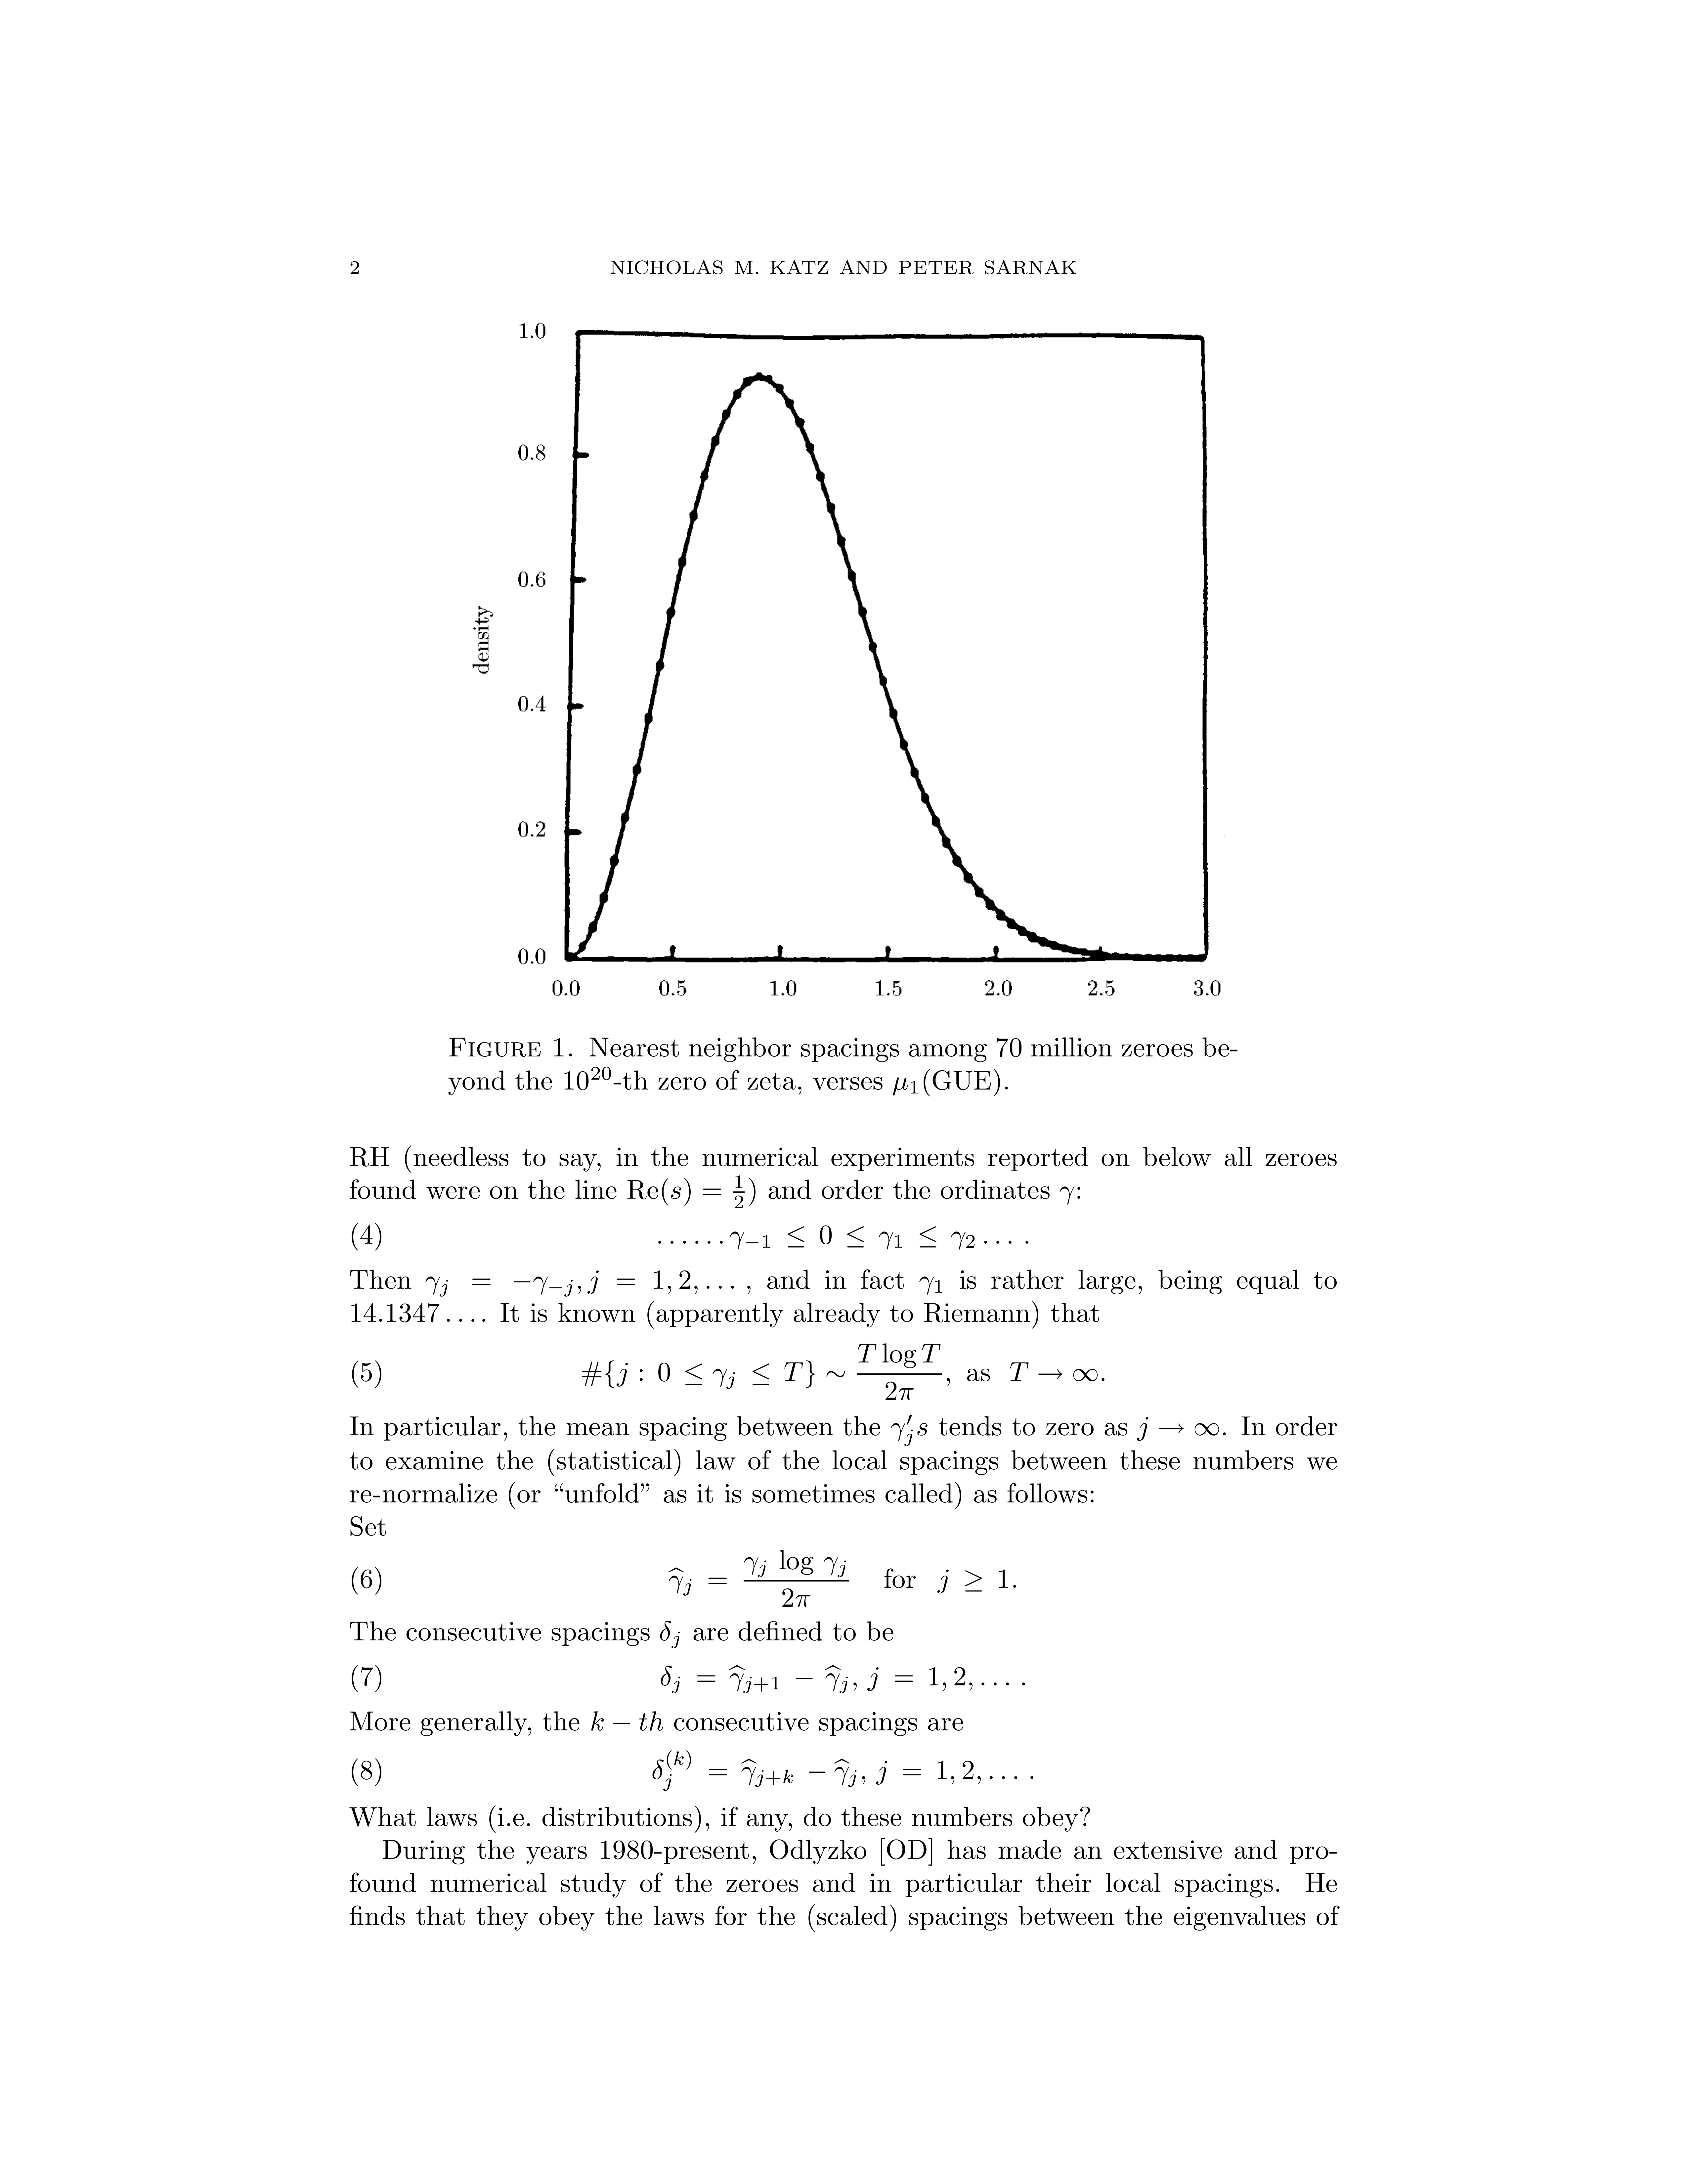maths: (581, 1344, 941, 1400), (668, 1549, 849, 1606), (652, 1751, 865, 1790), (730, 1225, 1012, 1250), (661, 1665, 856, 1693), (627, 1175, 755, 1207), (867, 1666, 973, 1691), (875, 1760, 980, 1785), (588, 1271, 696, 1294), (1138, 1416, 1219, 1441), (937, 1569, 1008, 1594), (1010, 1363, 1097, 1381), (592, 1711, 663, 1730), (514, 1276, 581, 1296), (891, 1415, 927, 1447), (564, 1067, 611, 1090), (661, 1620, 679, 1649), (425, 1276, 448, 1296), (893, 1078, 918, 1096), (920, 1276, 941, 1294), (1060, 1186, 1074, 1204), (473, 1278, 491, 1285), (707, 1285, 734, 1289), (982, 1682, 1008, 1686), (991, 1776, 1017, 1778)
